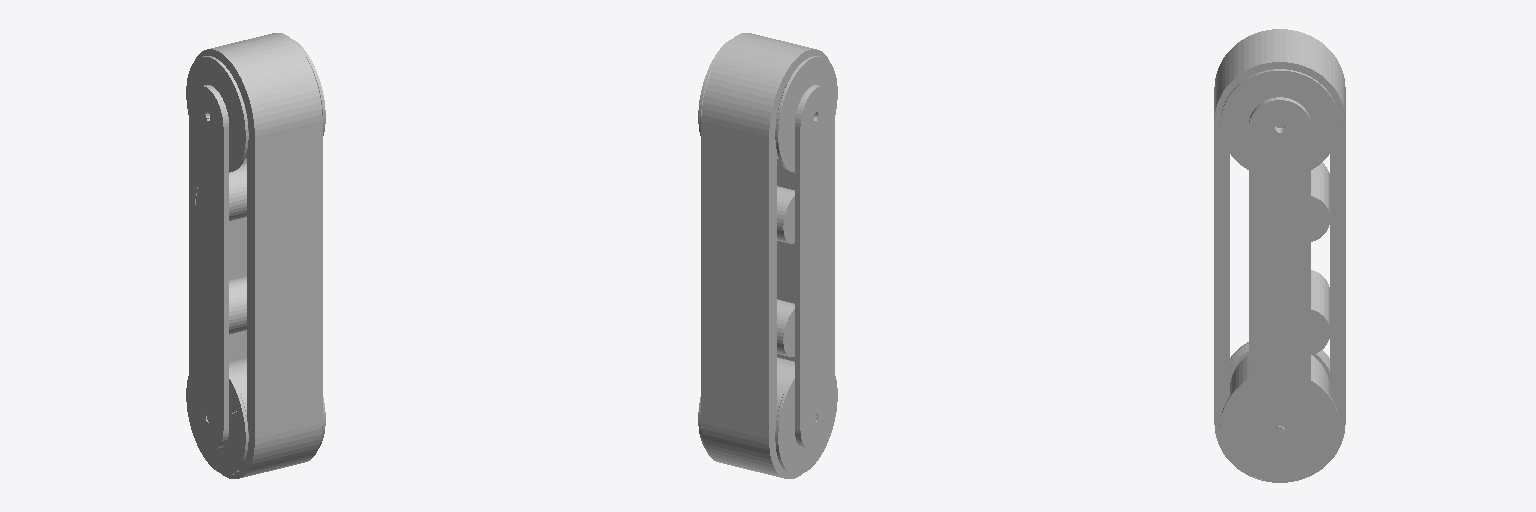
Rendered from flipper_rf.obj.
3 renders of one model, left to right at view 1: azimuth 30°, elevation 25°; view 2: azimuth 150°, elevation 25°; view 3: azimuth 270°, elevation 25°, orthographic.
Bounding box in the file's own units: 107 × 446 × 126.